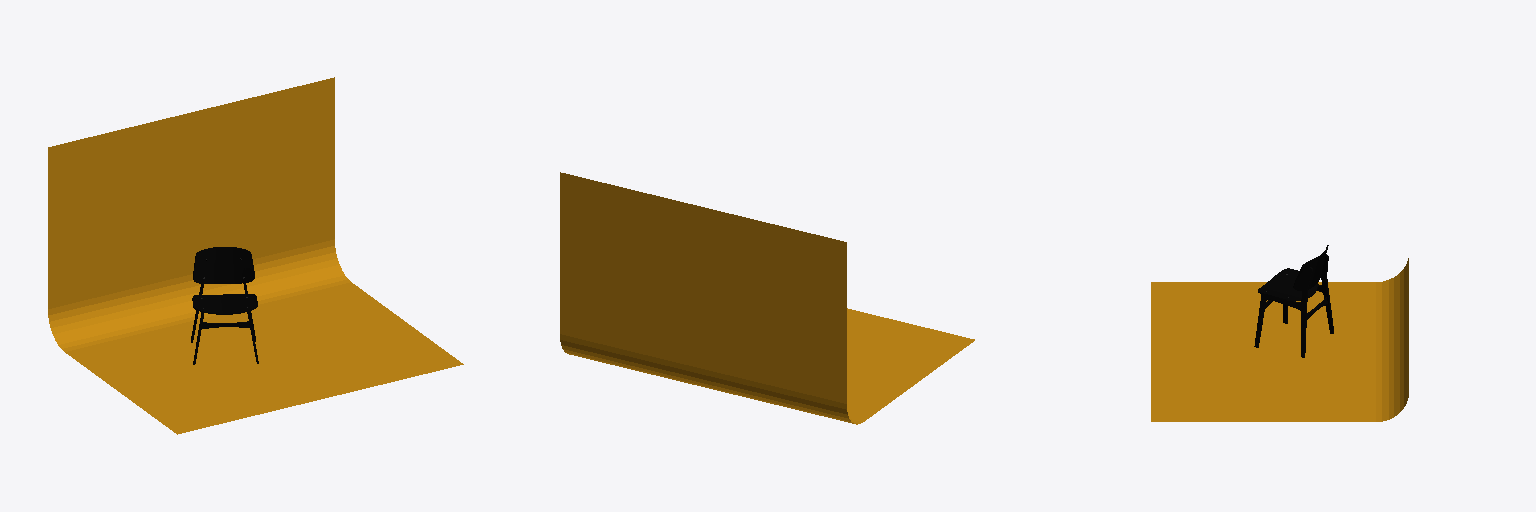
The model's file is chair.obj.
The picture shows the model from 3 angles: view 1: azimuth 30°, elevation 25°; view 2: azimuth 150°, elevation 25°; view 3: azimuth 270°, elevation 25°; orthographic projection.
Visible parts, largest first — view 1: Plane.002_Plane.003, Plane.001_Plane.002, Plane; view 2: Plane.002_Plane.003; view 3: Plane.002_Plane.003, Cube_Cube.001, Plane, Plane.001_Plane.002.
Boxes of the visible parts, x1=… form: Plane.002_Plane.003: x1=48, y1=77, x2=463, y2=434; Plane.001_Plane.002: x1=193, y1=247, x2=254, y2=283; Plane: x1=192, y1=294, x2=257, y2=314; Plane.002_Plane.003: x1=560, y1=172, x2=974, y2=424; Plane.002_Plane.003: x1=1151, y1=258, x2=1408, y2=421; Cube_Cube.001: x1=1254, y1=254, x2=1333, y2=357; Plane: x1=1258, y1=268, x2=1317, y2=300; Plane.001_Plane.002: x1=1293, y1=245, x2=1328, y2=290.
Bounding box in the file's own units: 2.56 × 1.64 × 2.